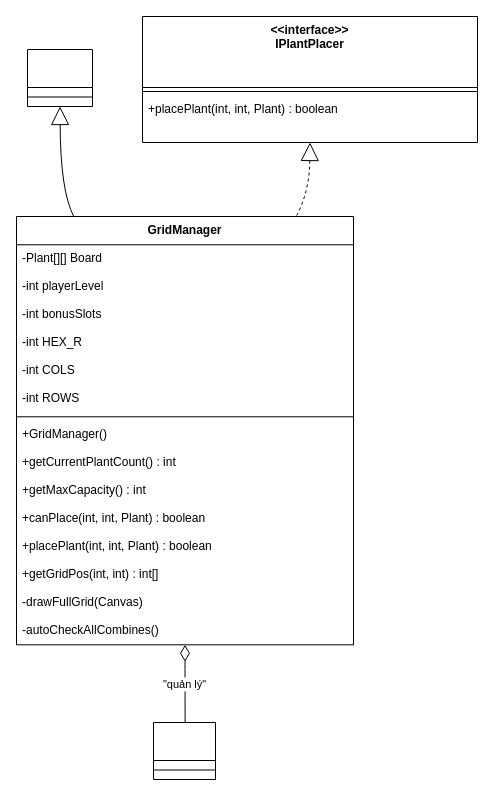
The diagram is 494 pixels wide and 796 high, and some of its shapes have lost their labels. The shapes that lost their labels are listed below. From the top down, each one's box as (x1, y1, x2, y2) in pixels, then its label:
(26, 48, 92, 106): Actor
(152, 722, 216, 780): Plant
